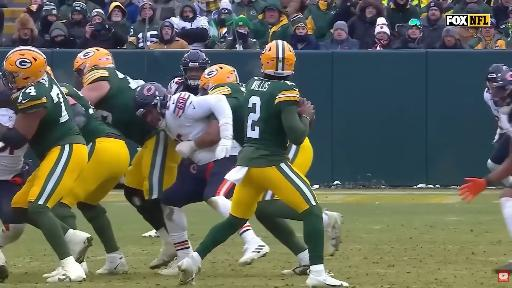Helmet: (2, 46, 46, 88), (260, 40, 295, 76), (135, 82, 168, 116), (74, 48, 114, 75), (180, 50, 209, 86), (200, 64, 239, 90), (491, 69, 511, 114), (487, 64, 508, 80), (47, 66, 54, 78)
Jersey: (14, 75, 85, 159), (83, 67, 156, 145), (238, 78, 299, 166), (59, 83, 120, 145), (165, 93, 232, 141), (209, 83, 246, 146), (484, 89, 504, 141), (0, 143, 27, 180), (167, 78, 198, 95), (499, 114, 511, 136)
Player: (178, 40, 348, 286), (74, 48, 180, 268), (0, 47, 91, 282), (137, 83, 240, 262), (53, 83, 129, 274), (255, 191, 309, 275), (255, 191, 309, 274), (0, 144, 30, 282), (484, 64, 510, 170), (167, 50, 210, 95), (491, 69, 511, 136)
